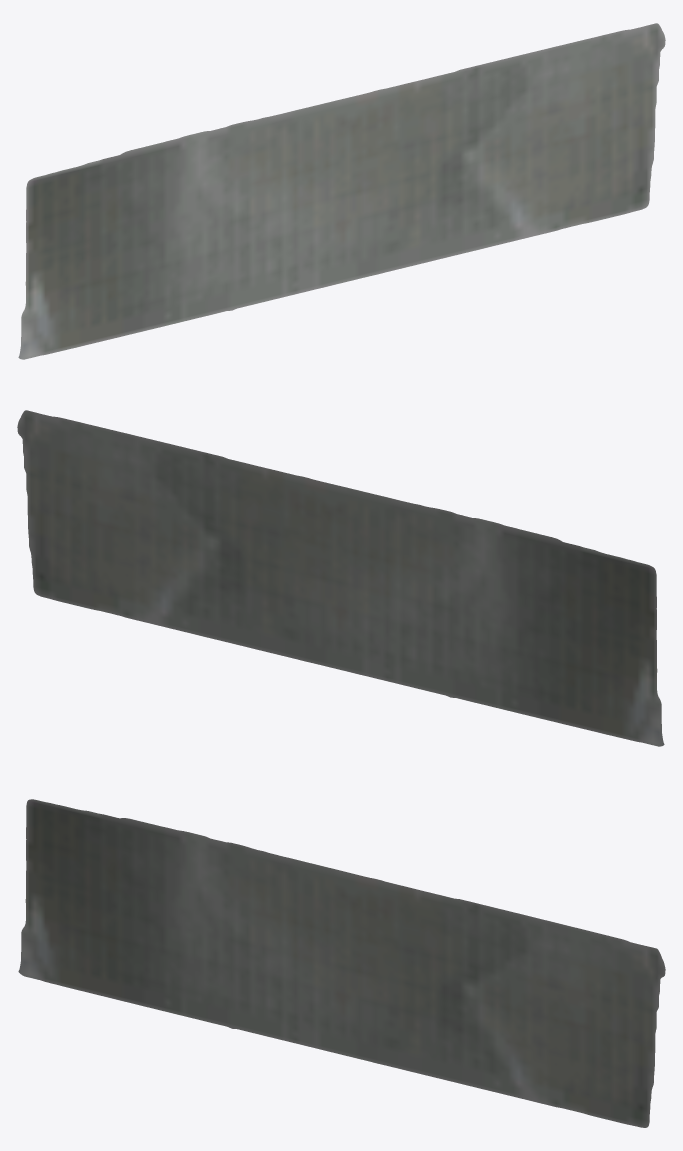
File: SM_Sign_Tape_04.glb
3 renders of one model, top to bottom at view 1: azimuth 30°, elevation 25°; view 2: azimuth 150°, elevation 25°; view 3: azimuth 330°, elevation 25°, orthographic.
Parts seen in each view (by area): view 1: SM_Sign_Tape_04; view 2: SM_Sign_Tape_04; view 3: SM_Sign_Tape_04.
Part boxes in pixels (x1,y1,x2,y2): SM_Sign_Tape_04: [18, 23, 665, 359]; SM_Sign_Tape_04: [17, 410, 664, 746]; SM_Sign_Tape_04: [18, 799, 665, 1127].
Bounding box in the file's own units: 0.2747 × 0.0797 × 1.3e-08.
Materials: 1 (1 with a texture image).
